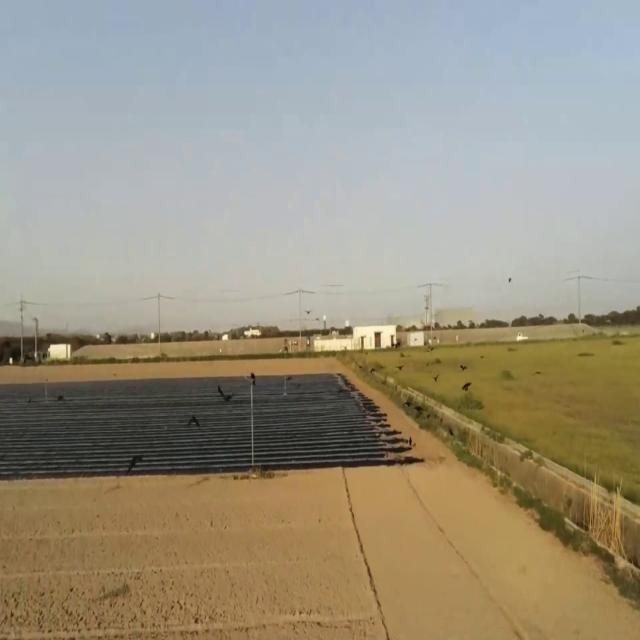bird: (124, 450, 142, 476), (189, 408, 200, 430), (218, 381, 228, 401), (463, 372, 471, 393), (389, 338, 402, 350), (248, 434, 256, 448), (414, 402, 424, 412), (461, 359, 467, 374)
